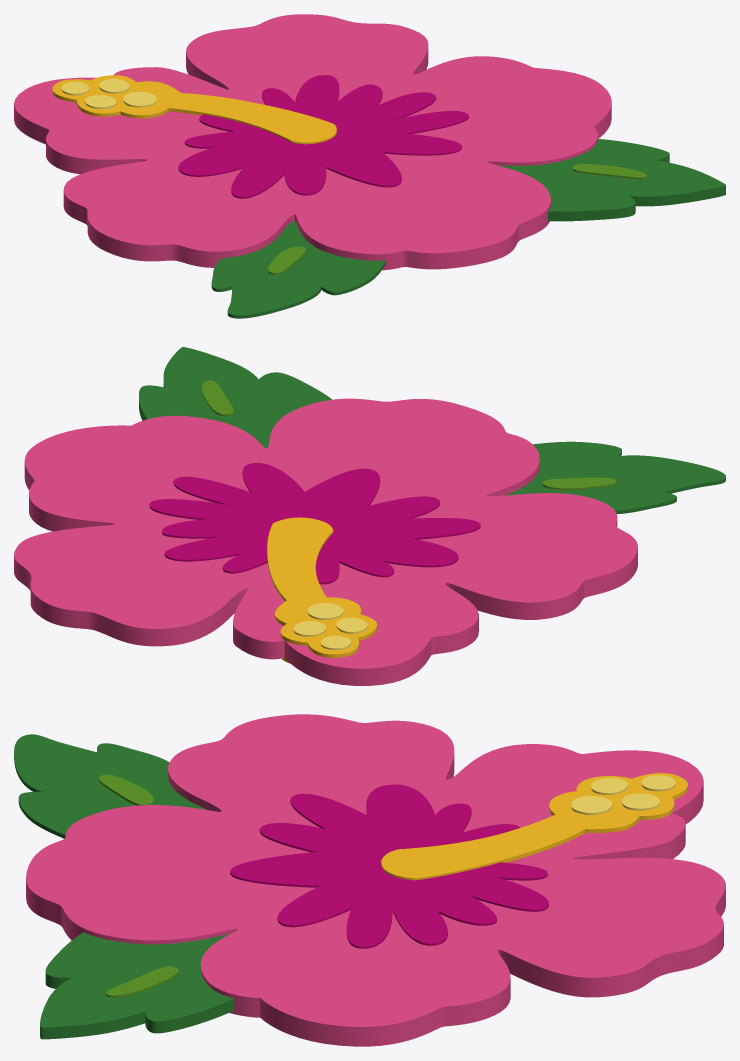
The model's file is emoji_u1f33a.glb.
3 views of the same model, one above another, from view 1: azimuth 30°, elevation 25°; view 2: azimuth 150°, elevation 25°; view 3: azimuth 270°, elevation 25° (orthographic). The views are drawn at different scales.
Parts seen in each view (by area): view 1: emoji_u1f33a; view 2: emoji_u1f33a; view 3: emoji_u1f33a.
Part boxes in pixels (left/top/right/bottom): emoji_u1f33a: left=14, top=14, right=725, bottom=318; emoji_u1f33a: left=14, top=347, right=725, bottom=685; emoji_u1f33a: left=14, top=714, right=725, bottom=1046.
Size of the model in its own units: 0.0341 by 0.0016 by 0.0328.
